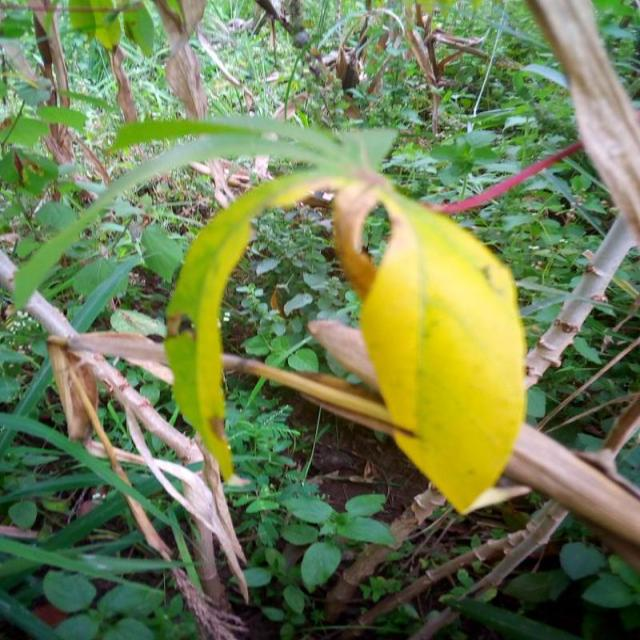cassava leaf: (358, 190, 528, 515)
